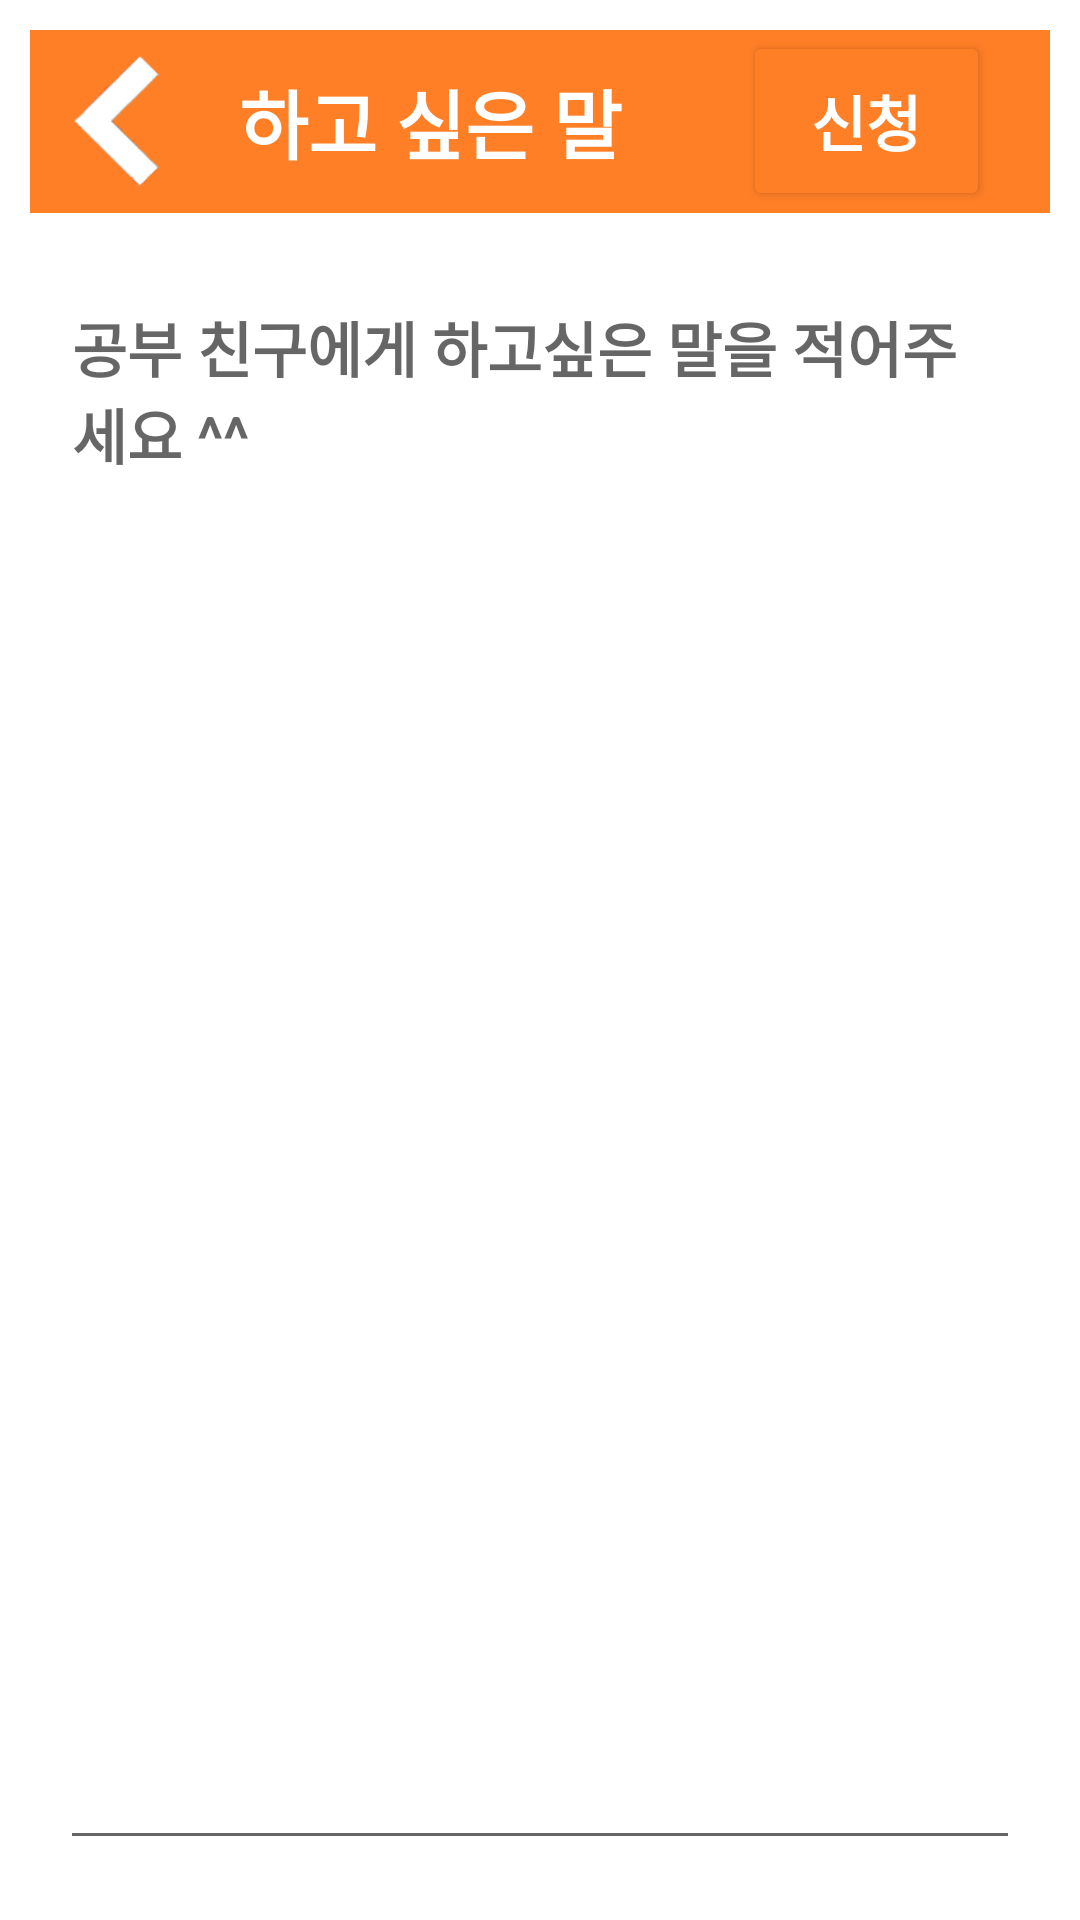

Icons on this 1080×1920 Android screen, each with the point to tap as (x=x, y=y):
backicon: (x=119, y=121)
